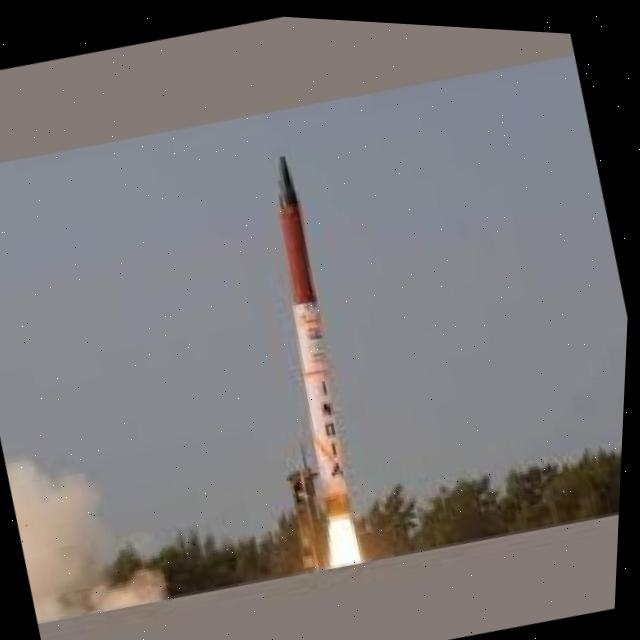missile: (241, 143, 381, 519)
